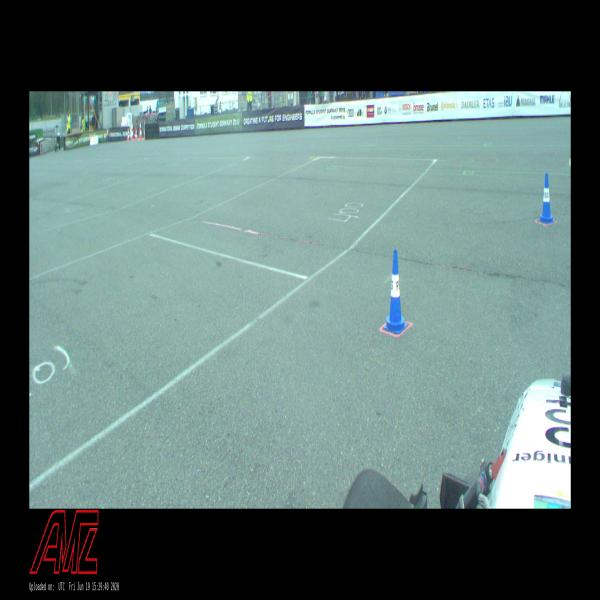blue_cone: (384, 249, 408, 334), (538, 174, 555, 223)
large_orange_cone: (139, 120, 142, 140), (132, 125, 134, 140)
orange_cone: (127, 129, 129, 140), (136, 128, 137, 139)
